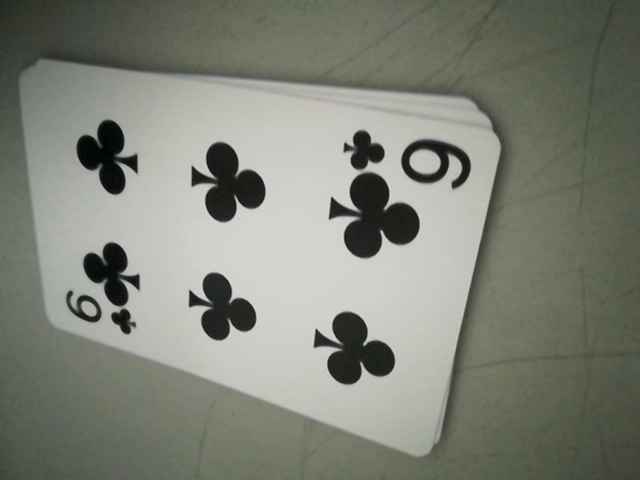mh 6: (337, 124, 475, 183), (58, 290, 138, 340)
